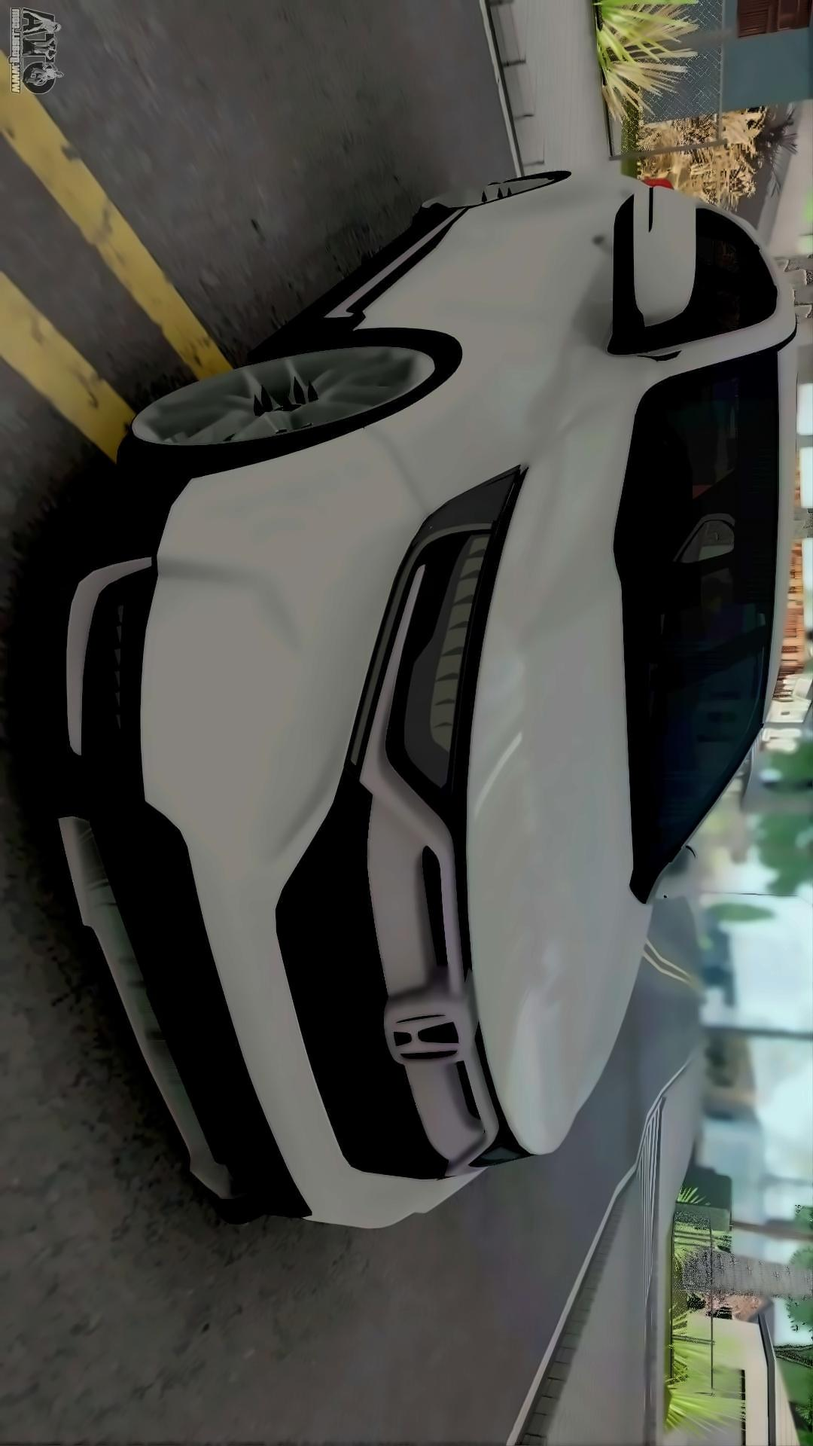Car hood: (454, 374, 661, 1191)
Driver-s door - -F-R-: (289, 234, 803, 390)
Fender - -F-R-: (192, 328, 645, 510)
Front bumper: (55, 422, 462, 1238)
Headlight - -R-: (373, 462, 532, 834)
Side bumper - -R-: (279, 179, 515, 354)
Side mirror - -R-: (590, 186, 723, 356)
